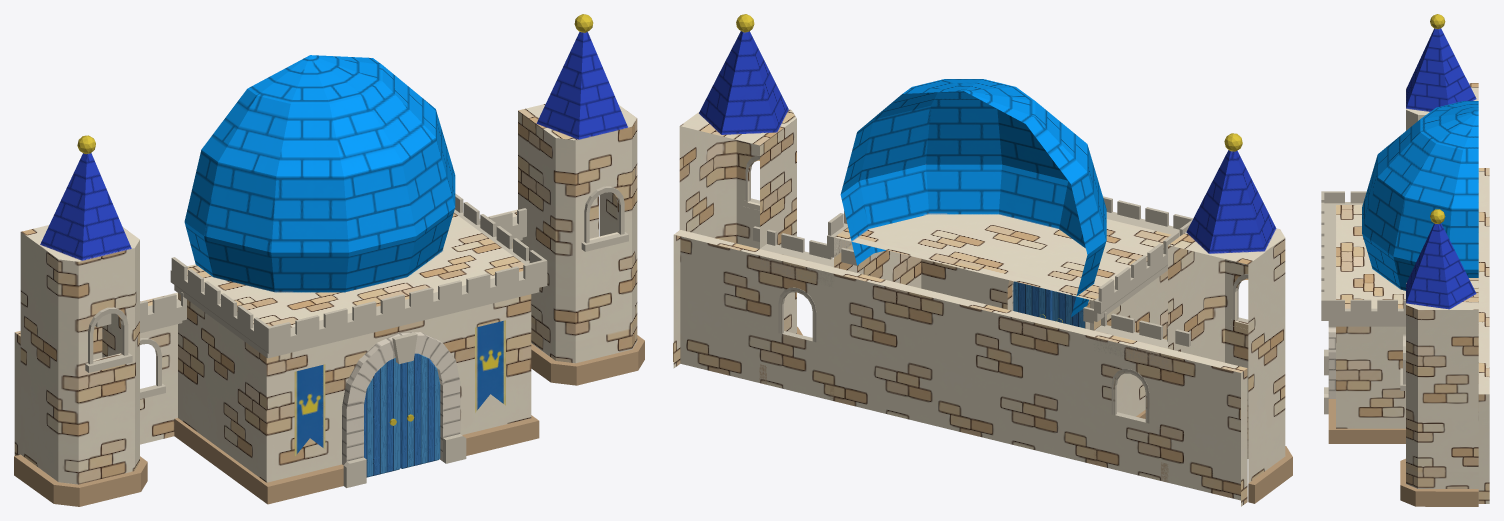
The model's file is castle.glb.
The picture shows the model from 3 angles, left to right: view 1: azimuth 30°, elevation 25°; view 2: azimuth 150°, elevation 25°; view 3: azimuth 270°, elevation 25°; orthographic projection. The views are drawn at different scales.
Visible parts, largest first — view 1: baked, baked_door_r, baked_door_l; view 2: baked, baked_door_r, baked_door_l; view 3: baked.
Part boxes in pixels (box(x1,y1,x2,y2)): baked: box(14, 14, 644, 506); baked_door_r: box(400, 353, 440, 468); baked_door_l: box(364, 358, 400, 477); baked: box(673, 14, 1292, 506); baked_door_r: box(1013, 281, 1052, 320); baked_door_l: box(1052, 291, 1085, 328); baked: box(1321, 14, 1489, 506).
Bounding box in the file's own units: 4.55 × 2.56 × 1.39.
3 materials, 3 textured.
